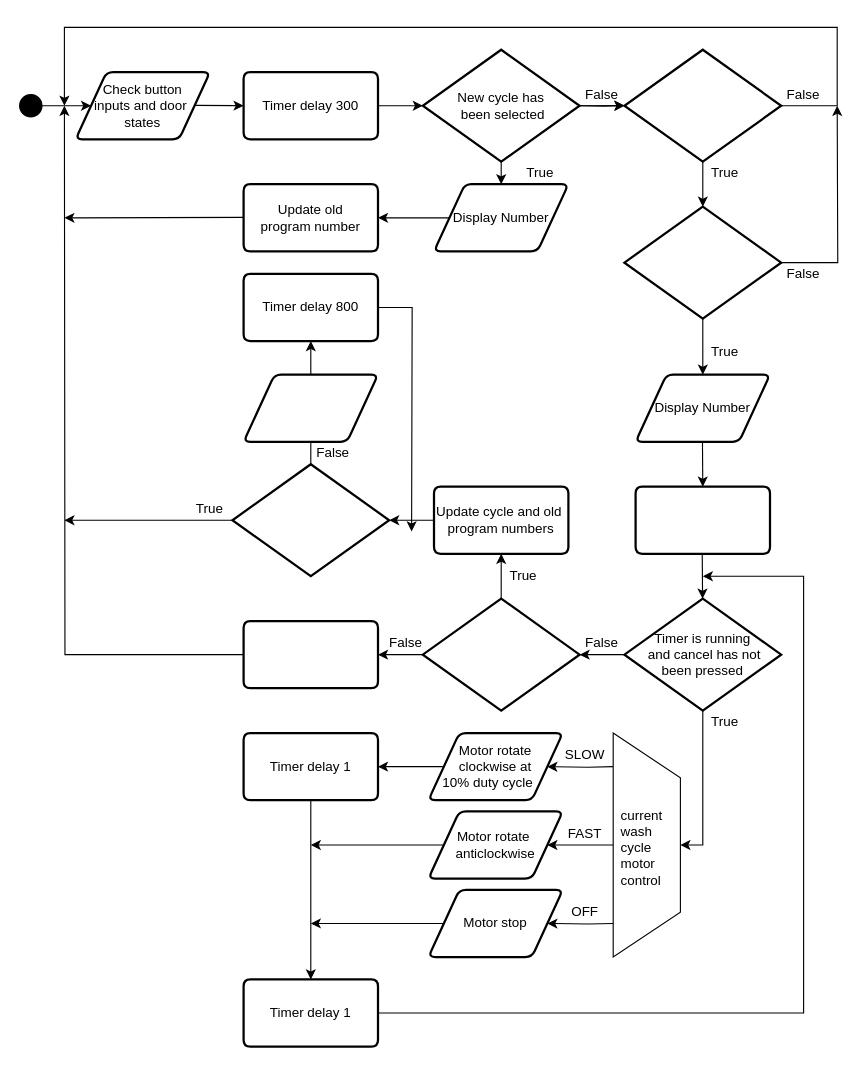
The diagram is 867 pixels wide and 1067 high, and some of its shapes have lost their labels. The centre of each missing label's shape, as x and y in pixels:
"Cycle has been selected and still has time left" goes at (702,105).
"Door has been closed" goes at (702,262).
"Door is open" goes at (310,520).
"Has the program finished" goes at (500,654).
"Increment cycle number by 1" goes at (310,654).
"Set timer" goes at (702,519).
"Sound buzzer" goes at (310,407).
